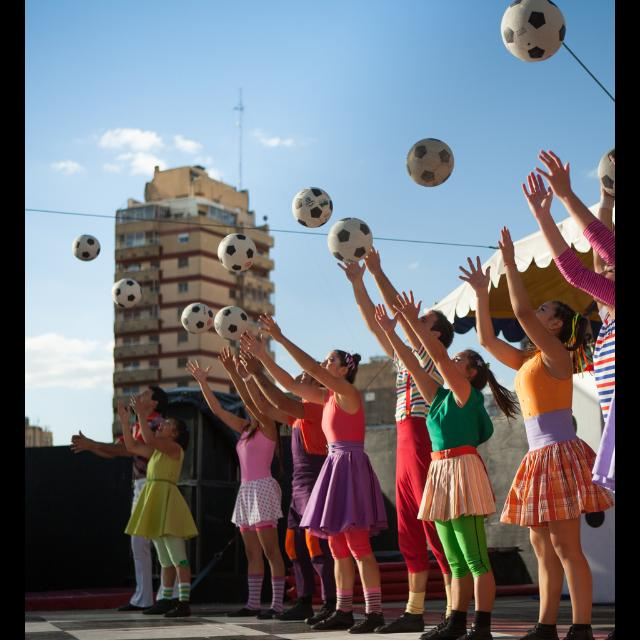Football: (494, 1, 566, 62), (404, 138, 452, 186), (325, 218, 375, 258), (216, 230, 258, 272), (288, 188, 332, 226), (175, 298, 209, 334), (213, 305, 249, 337), (70, 232, 100, 266), (114, 276, 140, 304), (600, 148, 614, 194)
